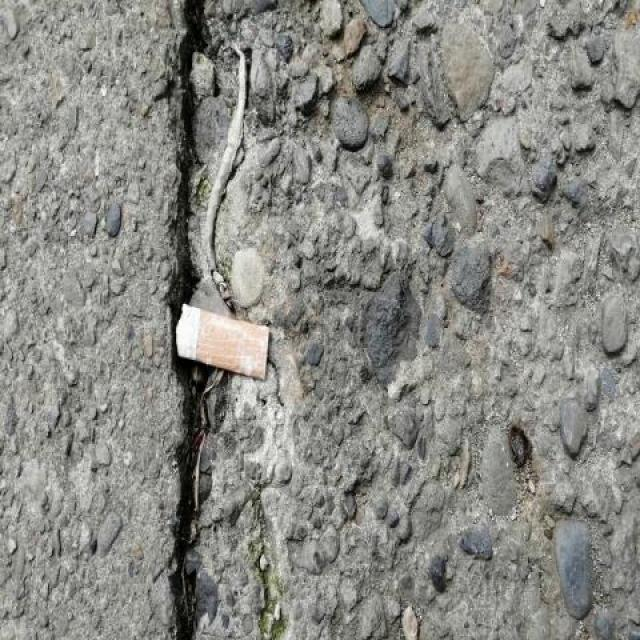non-organic waste: (173, 300, 271, 383)
